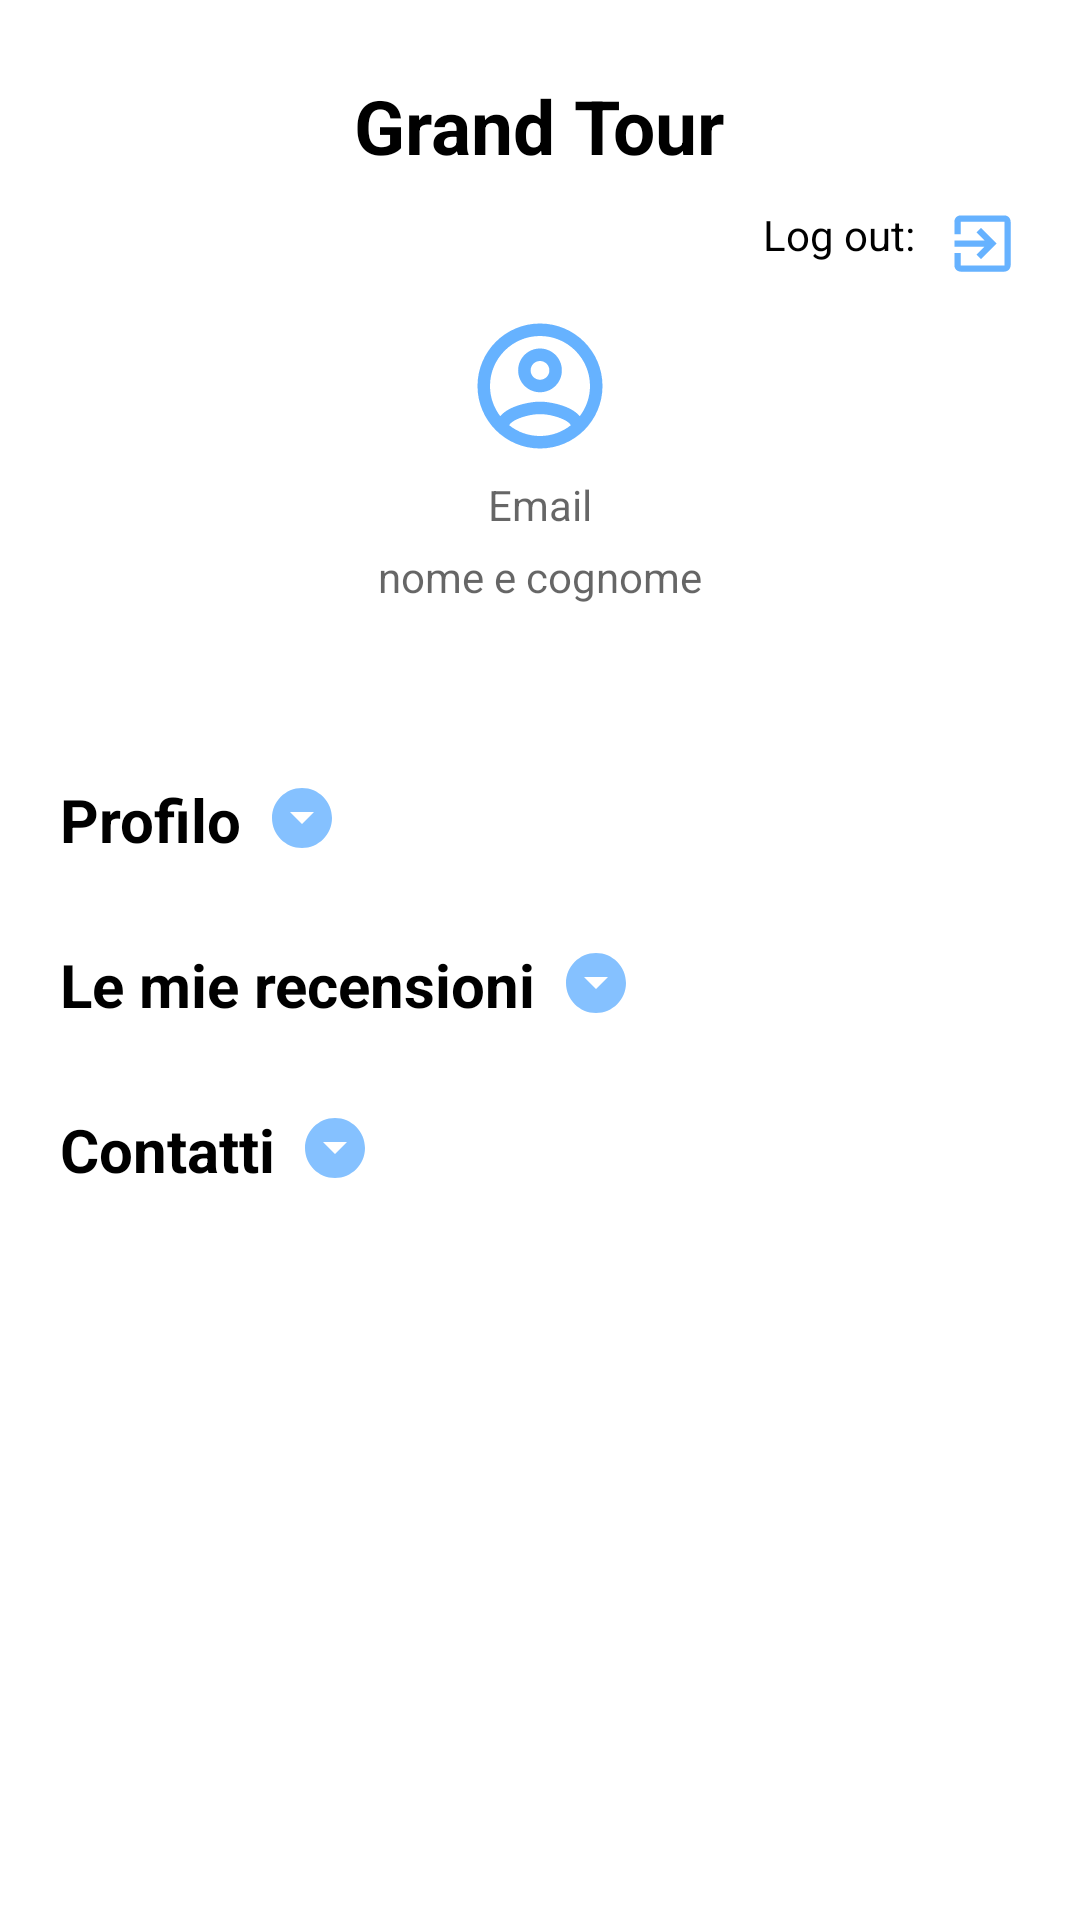

Screen size 1080 × 1920. Icon name, then its box in pixels as region(x1, y1, x2, y2):
account circle: region(477, 323, 603, 449)
down: region(272, 788, 332, 848), region(566, 953, 626, 1013), region(305, 1118, 365, 1178)
exit to app: region(954, 215, 1011, 272)
